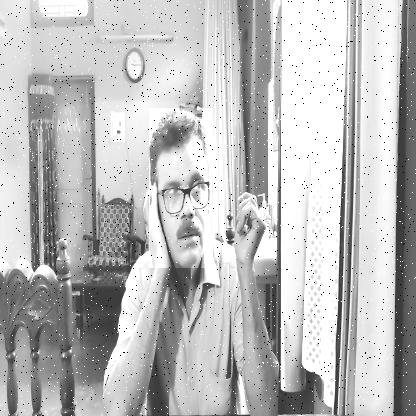Distracted: (149, 108, 213, 268)
